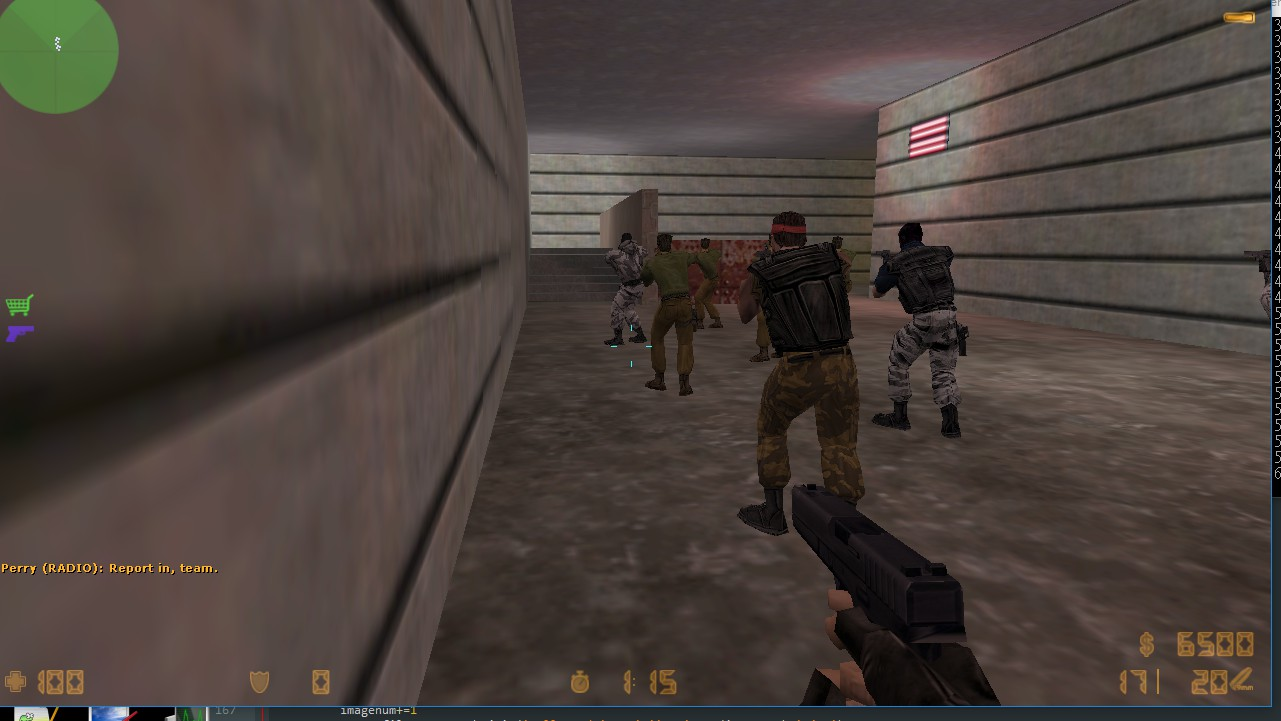person: (736, 208, 870, 548), (875, 213, 969, 441), (642, 231, 705, 399), (603, 223, 648, 358), (696, 232, 721, 335)
